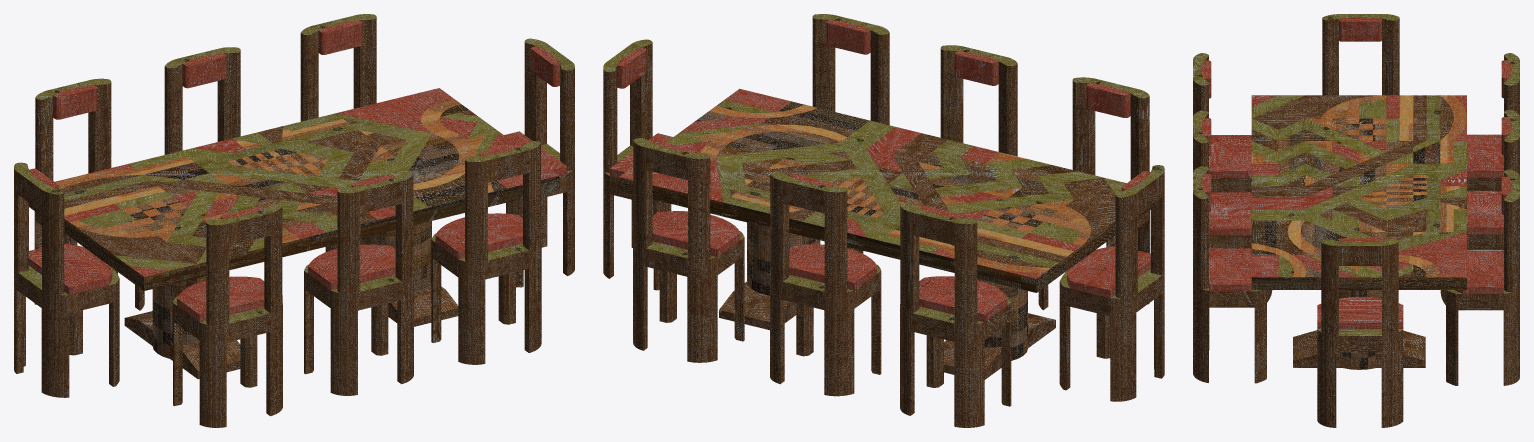
3 views of the same model, side by side, from view 1: azimuth 30°, elevation 25°; view 2: azimuth 150°, elevation 25°; view 3: azimuth 270°, elevation 25° (orthographic). The views are drawn at different scales.
Visible parts, largest first — view 1: SketchUp (×41); view 2: SketchUp (×43); view 3: SketchUp (×59).
Part boxes in pixels (x1,y1,x2,y2): SketchUp (×41): (14, 17, 574, 427); SketchUp (×43): (603, 17, 1164, 427); SketchUp (×59): (1193, 14, 1519, 427).
Bounding box in the file's own units: 135 × 80.63 × 49.6.
Materials: 7 (5 with a texture image).
